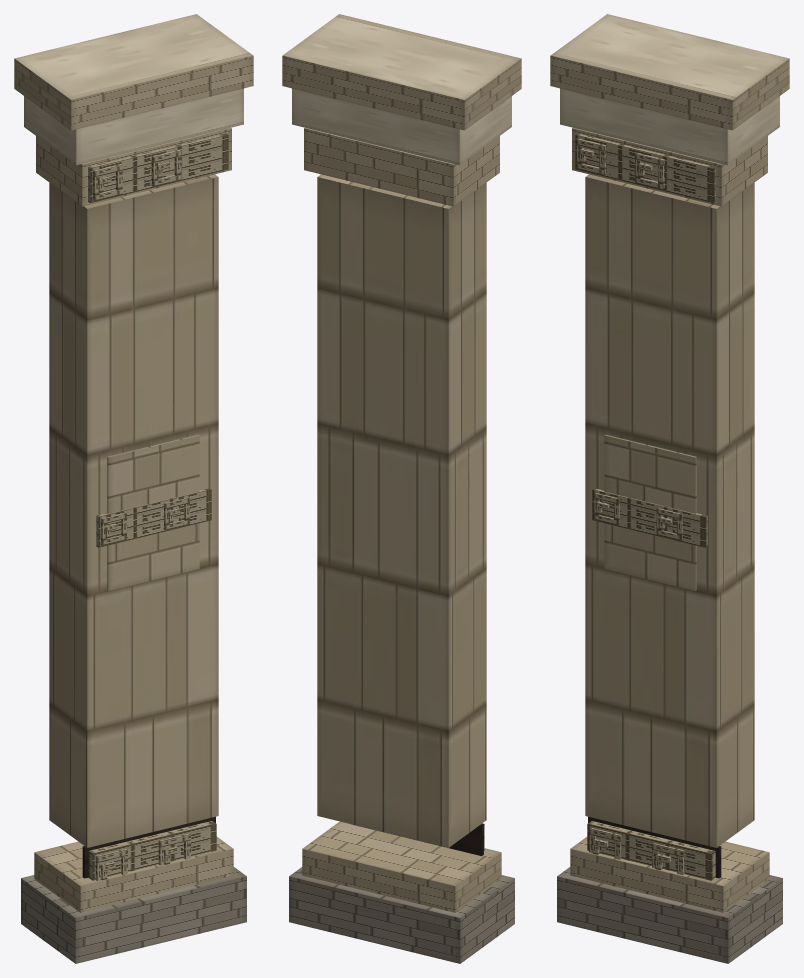
Rendered from ae_duel_stone_pillar_lod1.glb.
3 renders of one model, left to right at view 1: azimuth 30°, elevation 25°; view 2: azimuth 150°, elevation 25°; view 3: azimuth 330°, elevation 25°, orthographic.
Visible parts, largest first — view 1: ae_duel_stone_pillar_lod1; view 2: ae_duel_stone_pillar_lod1; view 3: ae_duel_stone_pillar_lod1.
Part boxes in pixels (box(x1,y1,x2,y2)): ae_duel_stone_pillar_lod1: box(14, 14, 253, 963); ae_duel_stone_pillar_lod1: box(282, 14, 521, 963); ae_duel_stone_pillar_lod1: box(550, 14, 789, 963).
Bounding box in the file's own units: 0.9998 × 4.54 × 0.5398.
1 material, 1 textured.
